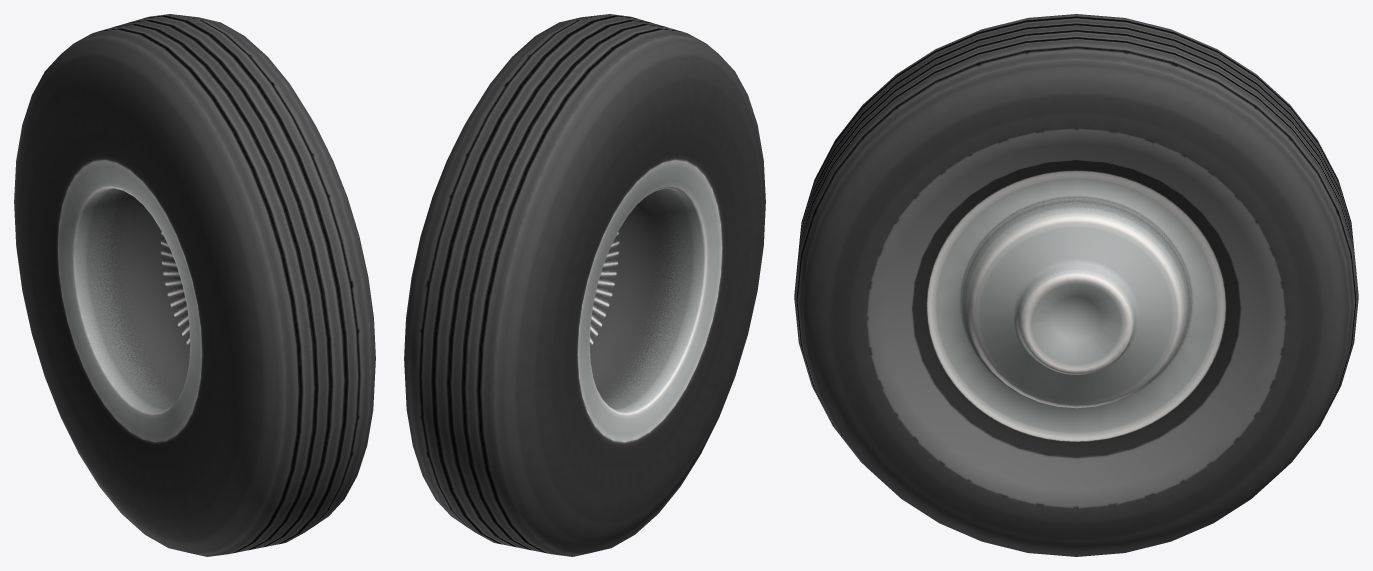
The model's file is Tire.obj.
3 renders of one model, left to right at view 1: azimuth 30°, elevation 25°; view 2: azimuth 150°, elevation 25°; view 3: azimuth 270°, elevation 25°, orthographic. The views are drawn at different scales.
Visible parts, largest first — view 1: LowTire001; view 2: LowTire001; view 3: LowTire001.
Part boxes in pixels (left/top/right/bottom): LowTire001: left=14, top=14, right=375, bottom=556; LowTire001: left=404, top=14, right=765, bottom=556; LowTire001: left=794, top=14, right=1358, bottom=556.
Bounding box in the file's own units: 21.1 × 68.29 × 68.29.
Materials: 1 (1 with a texture image).
